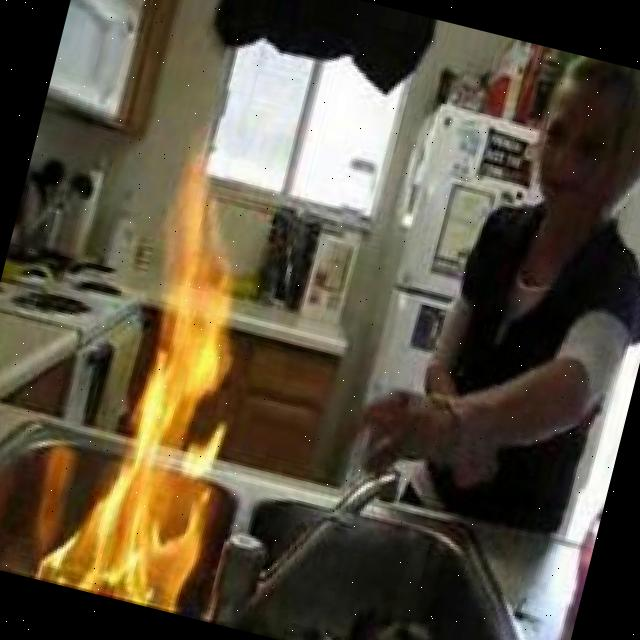fire: (60, 144, 291, 616)
